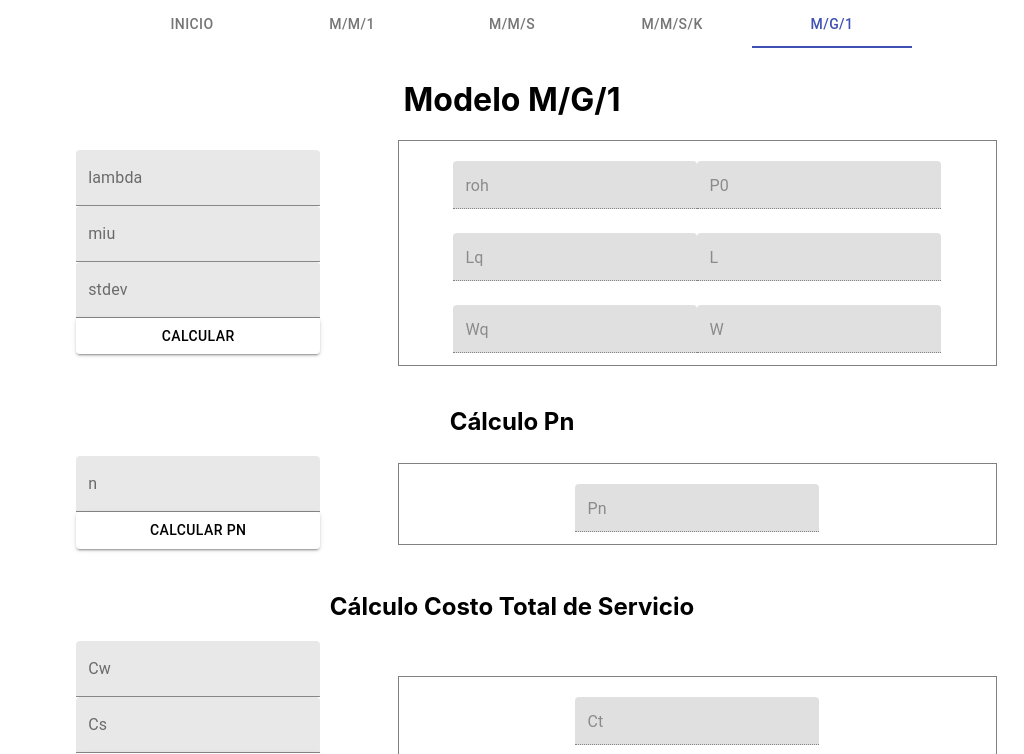
Scenario: Run cases › test mock fetch
The image size is (1024, 754).
Type "3" into the number field labelled "lambda" at coordinates (198, 178), box [76,150,320,206]
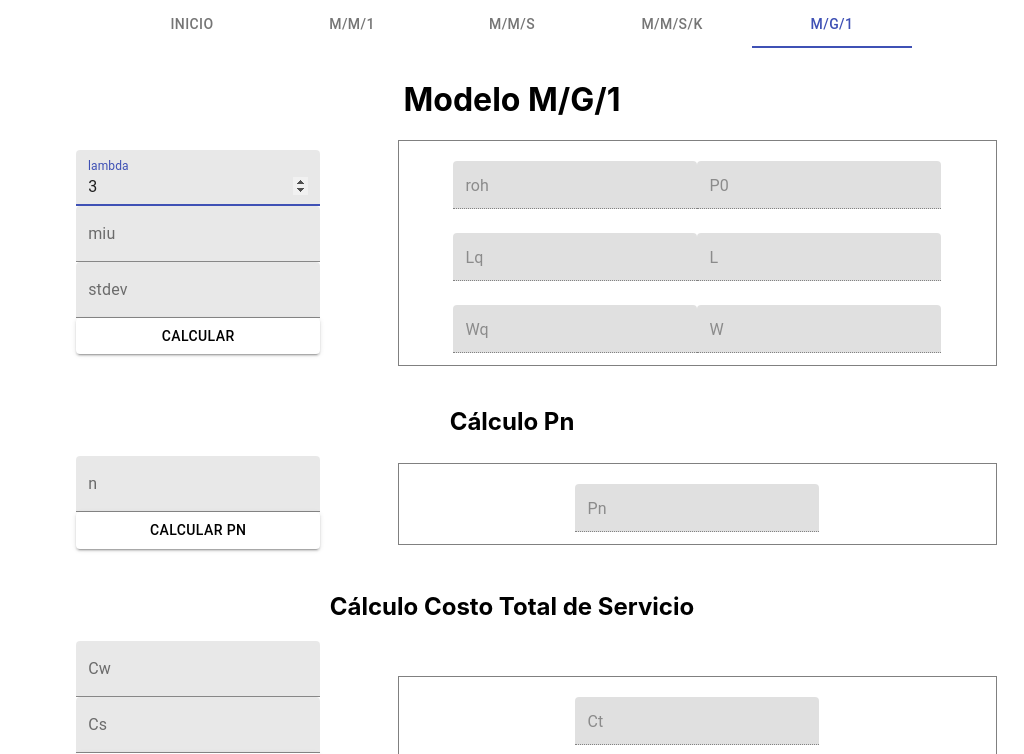
Type "5" into the number field labelled "miu" at coordinates (198, 234), box [76,206,320,262]
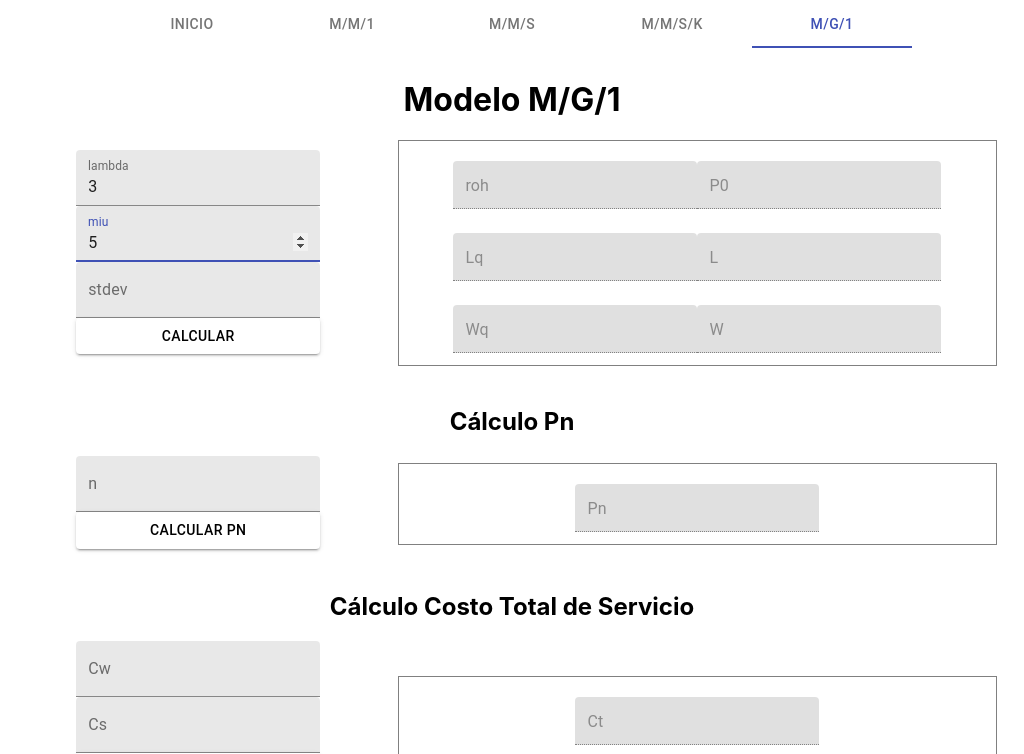
Type "0.1" into the number field labelled "stdev" at coordinates (198, 290), box [76,262,320,318]
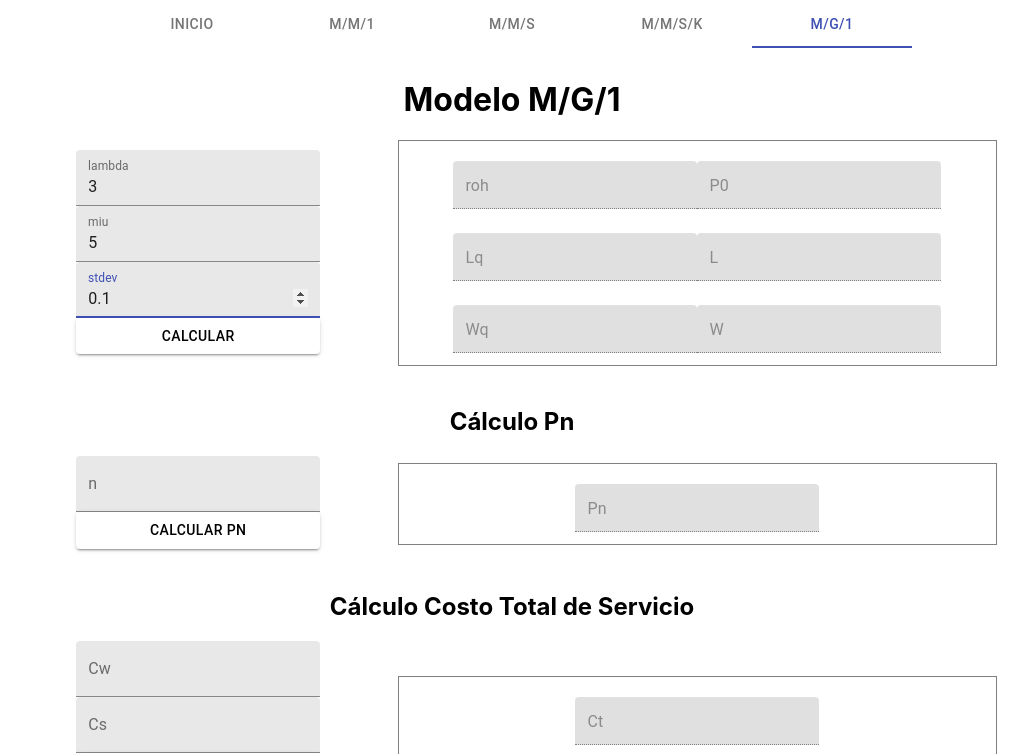
Click the button "Calcular" at coordinates (198, 336), box [76,318,320,354]
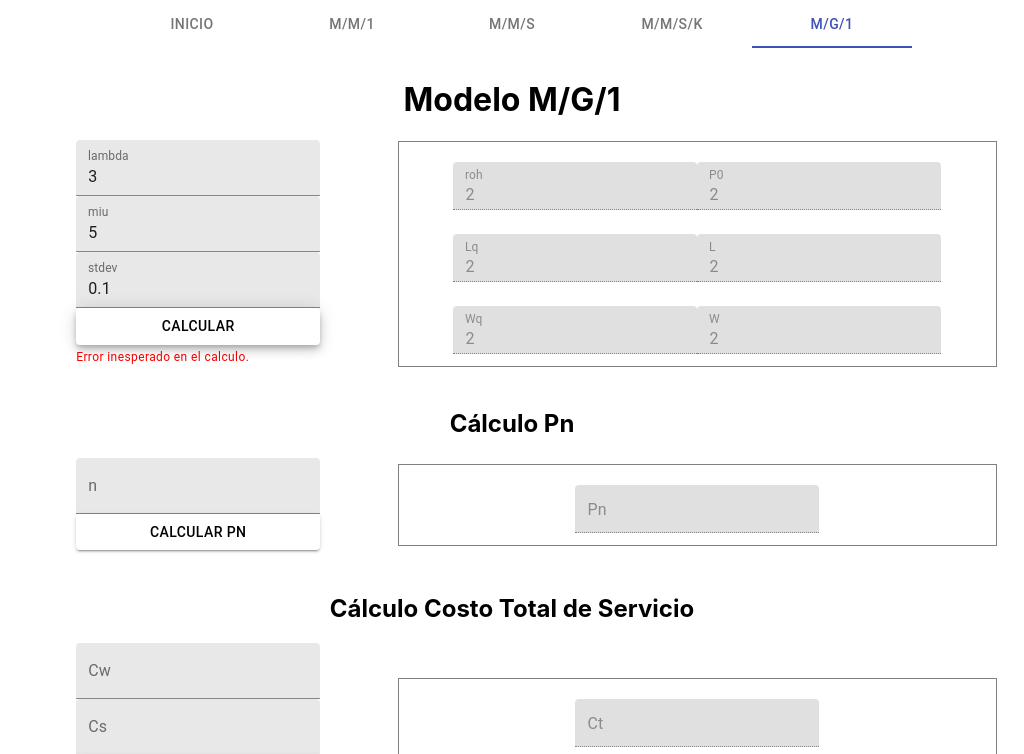
Expected: the field labelled "roh" holds "2", [453,162,697,210]
Expected: the field labelled "P0" holds "2", [697,162,941,210]
Expected: the field labelled "Lq" holds "2", [453,234,697,282]
